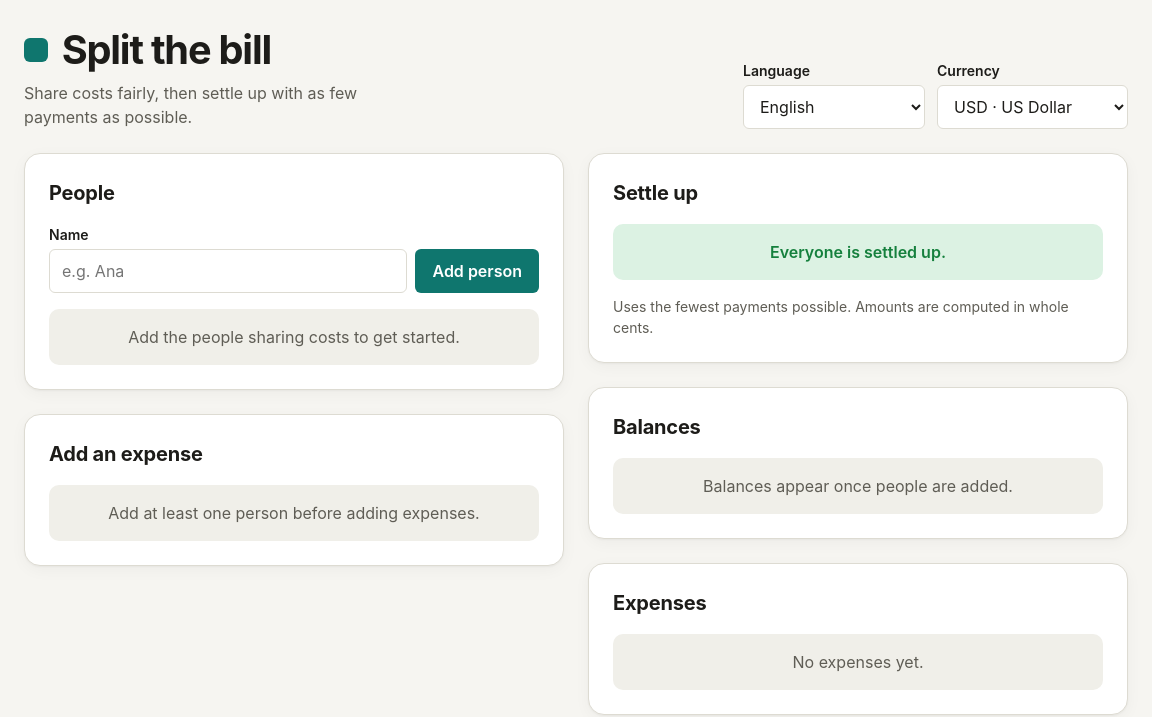
Test: App › validates the expense form
Type "Ana" into the field labelled "Name" at (228, 271), box x1=49 y1=249 x2=408 y2=293
Then press Enter
(page scrolled)
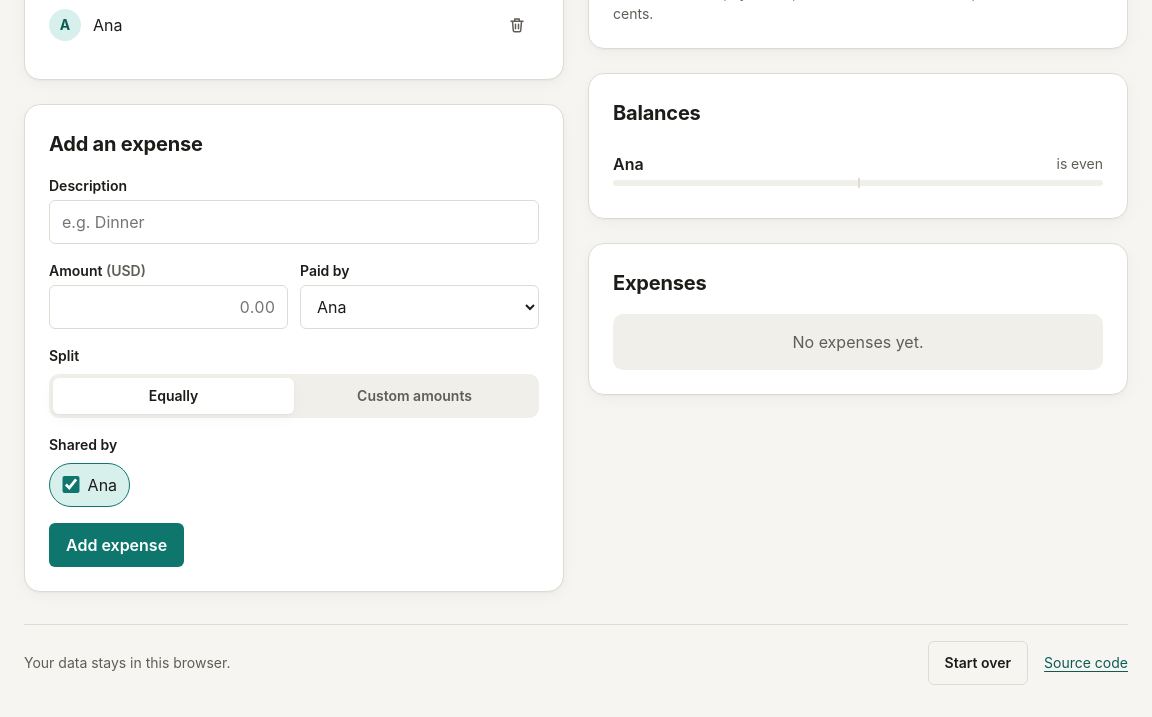
Click the button "Add expense" at (117, 545), box x1=49 y1=523 x2=184 y2=567
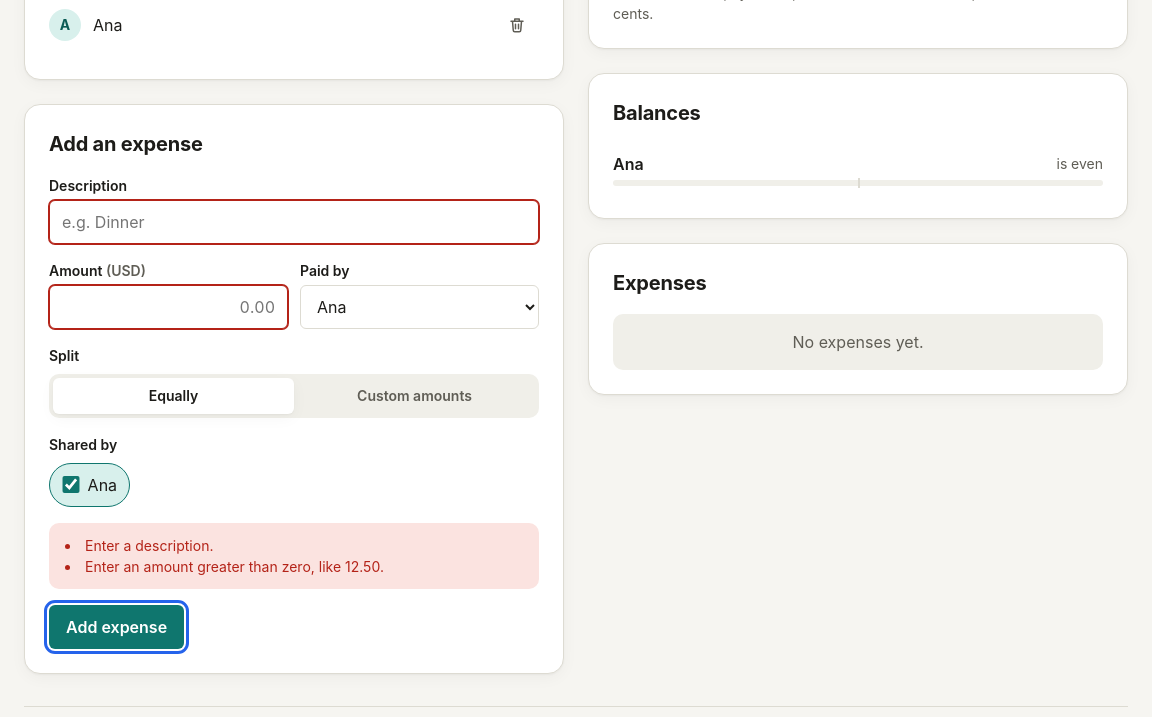
Check: the element "Expenses" shows "No expenses yet.", box x1=792 y1=332 x2=924 y2=352
Check: the message shows "Enter a description.", box x1=85 y1=537 x2=214 y2=554
Check: the message shows "Enter an amount greater than zero", box x1=85 y1=558 x2=384 y2=575
